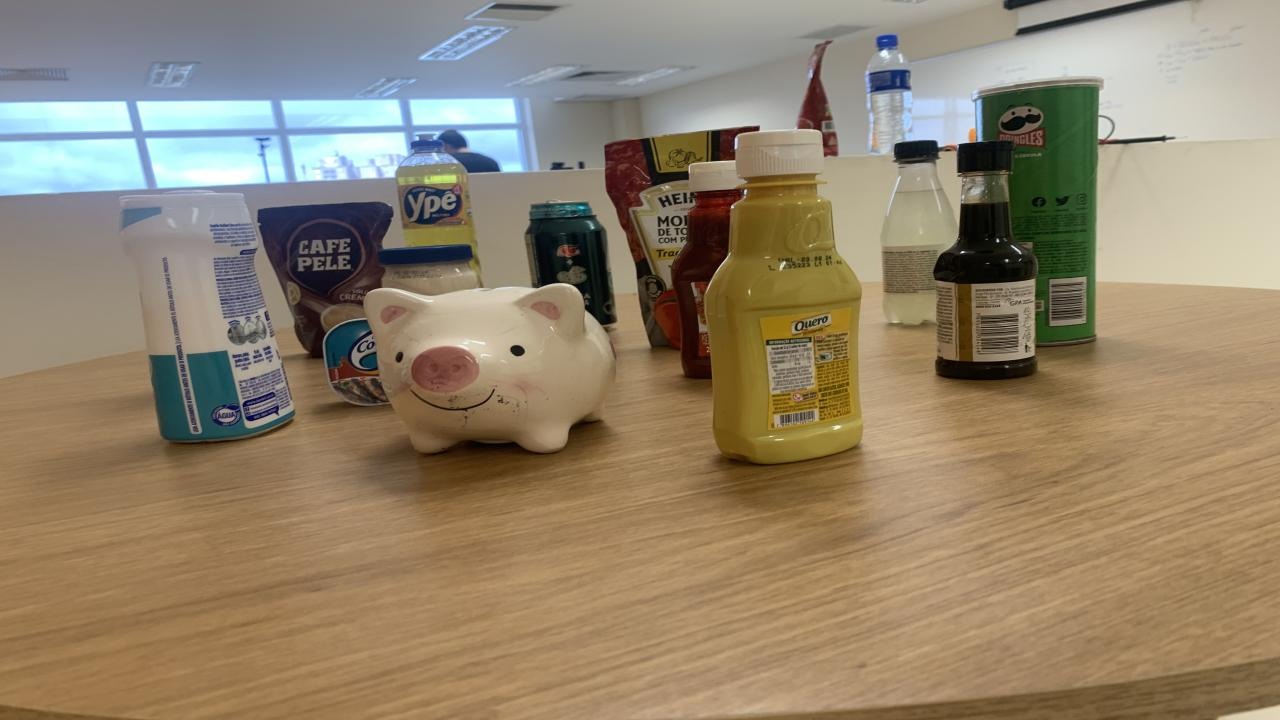Cleaner-Cleanup_Items: (120, 191, 295, 442)
Coffee-Pantry_Items: (258, 202, 392, 356)
Detergent-Cleanup_Items: (395, 139, 482, 276)
English_Sauce-Pantry_Items: (932, 141, 1038, 379)
Guarana_Can-Drinks: (528, 216, 618, 326)
Ketchup-Pantry_Items: (672, 159, 742, 379)
Mayonnaise-Pantry_Items: (378, 244, 480, 296)
Mustard-Pantry_Items: (705, 129, 862, 463)
Pig_Safe-Miscellaneous: (368, 285, 615, 454)
Pringles-Snacks: (972, 77, 1102, 345)
Soda-Drinks: (880, 141, 958, 324)
Tea-Drinks: (530, 201, 592, 219)
Tomato_Sauce-Pantry_Items: (605, 128, 758, 349), (798, 41, 838, 156)
Tuna_Can-Pantry_Items: (322, 319, 388, 405)
Water_Bottle-Drinks: (865, 34, 912, 154)
